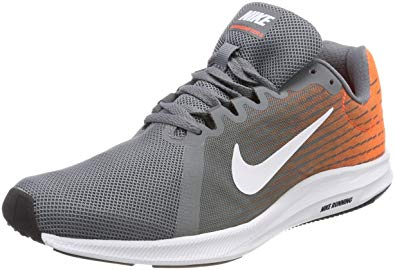nike: (231, 105, 335, 196)
